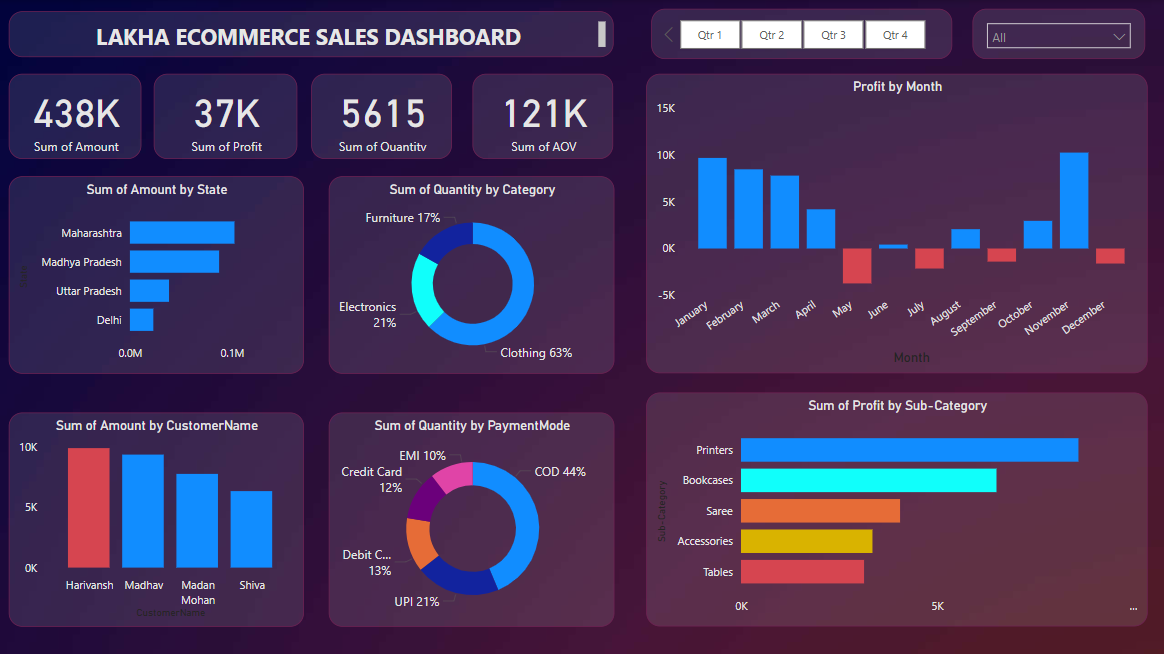

The page's visual inventory and layout, read from the dashboard file:
{"tool":"powerbi","page":{"name":"Page 1","canvas":[1280,720],"ordinal":0},"visuals":[{"type":"textbox","box":[39.8,30.2,617.5,61.7],"z":0},{"type":"columnChart","title":"Profit by Month","fields":{"Category":["Orders.Order Date.Variation.Date Hierarchy.Month"],"Y":["Sum(Details.Profit)"]},"box":[677.9,115.3,581.8,289.5],"z":1000},{"type":"barChart","fields":{"Category":["Details.Sub-Category"],"Y":["Sum(Details.Profit)"]},"box":[677.9,435,581.8,259.3],"z":2000},{"type":"donutChart","fields":{"Category":["Details.Category"],"Y":["Sum(Details.Quantity)"]},"box":[347.2,241.5,310.1,220.9],"z":3000},{"type":"donutChart","fields":{"Y":["Sum(Details.Quantity)"],"Category":["Details.PaymentMode"]},"box":[347.2,474.8,310.1,220.9],"z":4000},{"type":"card","fields":{"Values":["Sum(Details.Amount)"]},"box":[39.8,115.3,135.8,101.5],"z":5000},{"type":"card","fields":{"Values":["Sum(Details.Quantity)"]},"box":[366.4,115.3,135.8,101.5],"z":6000},{"type":"card","fields":{"Values":["Sum(Details.Profit)"]},"box":[211.3,115.3,135.8,101.5],"z":7000},{"type":"card","fields":{"Values":["Sum(Details.AOV)"]},"box":[521.4,115.3,135.8,101.5],"z":8000},{"type":"barChart","fields":{"Category":["Orders.State"],"Y":["Sum(Details.Amount)"]},"box":[35.7,241.5,279.9,211.3],"z":9000},{"type":"columnChart","fields":{"Category":["Orders.CustomerName"],"Y":["Sum(Details.Amount)"]},"box":[35.7,474.8,279.9,220.9],"z":10000},{"type":"slicer","fields":{"Values":["Orders.Order Date.Variation.Date Hierarchy.Quarter"]},"box":[704.3,31.6,325.2,60.4],"z":11000},{"type":"slicer","fields":{"Values":["Orders.State"]},"box":[1063.8,31.6,161.9,60.4],"z":12000}]}

Visuals, with their boxes in screenshot pixels (x1, y1, x2, y2), scaled from the page's 1280x720 canvas onto the 1164x654 screenshot:
textbox: bbox(36, 27, 598, 83)
"Profit by Month" columnChart: bbox(616, 105, 1146, 368)
barChart - Details.Sub-Category x Sum(Details.Profit): bbox(616, 395, 1146, 631)
donutChart - Details.Category x Sum(Details.Quantity): bbox(316, 219, 598, 420)
donutChart - Sum(Details.Quantity) x Details.PaymentMode: bbox(316, 431, 598, 632)
card - Sum(Details.Amount): bbox(36, 105, 160, 197)
card - Sum(Details.Quantity): bbox(333, 105, 457, 197)
card - Sum(Details.Profit): bbox(192, 105, 316, 197)
card - Sum(Details.AOV): bbox(474, 105, 598, 197)
barChart - Orders.State x Sum(Details.Amount): bbox(32, 219, 287, 411)
columnChart - Orders.CustomerName x Sum(Details.Amount): bbox(32, 431, 287, 632)
slicer - Orders.Order Date.Variation.Date Hierarchy.Quarter: bbox(640, 29, 936, 84)
slicer - Orders.State: bbox(967, 29, 1115, 84)
